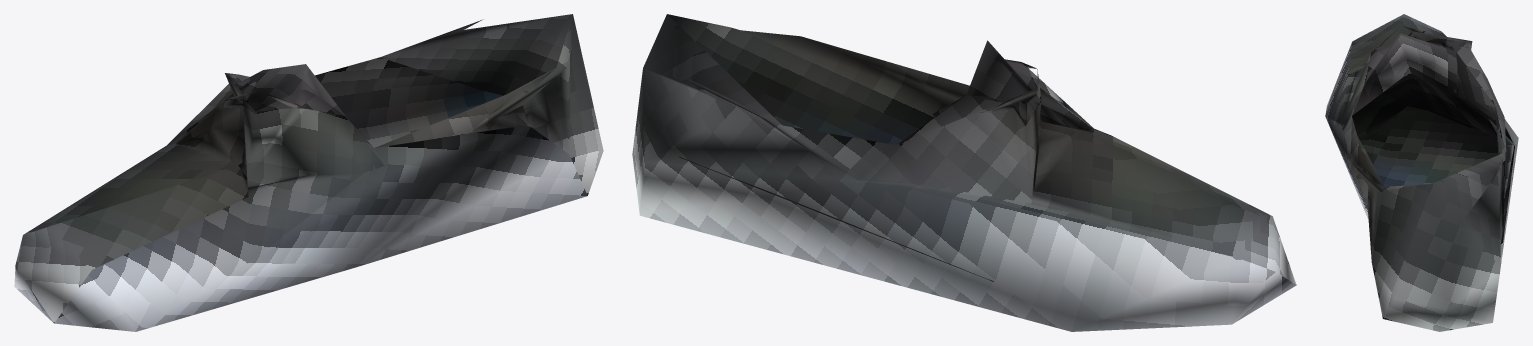
The model's file is Womens_Suede_Bahama_in_Graphite_Suede_cUAjIMhWSO9-low.glb.
3 renders of one model, left to right at view 1: azimuth 30°, elevation 25°; view 2: azimuth 150°, elevation 25°; view 3: azimuth 270°, elevation 25°, orthographic. The views are drawn at different scales.
Visible parts, largest first — view 1: Womens_Suede_Bahama_in_Graphite_Suede_cUAjIMhWSO9; view 2: Womens_Suede_Bahama_in_Graphite_Suede_cUAjIMhWSO9; view 3: Womens_Suede_Bahama_in_Graphite_Suede_cUAjIMhWSO9.
Part boxes in pixels (<box>): Womens_Suede_Bahama_in_Graphite_Suede_cUAjIMhWSO9: <box>14,14,603,331</box>; Womens_Suede_Bahama_in_Graphite_Suede_cUAjIMhWSO9: <box>632,14,1296,331</box>; Womens_Suede_Bahama_in_Graphite_Suede_cUAjIMhWSO9: <box>1325,14,1518,331</box>.
Bounding box in the file's own units: 0.2536 × 0.0819 × 0.0819.
Materials: 1 (1 with a texture image).
